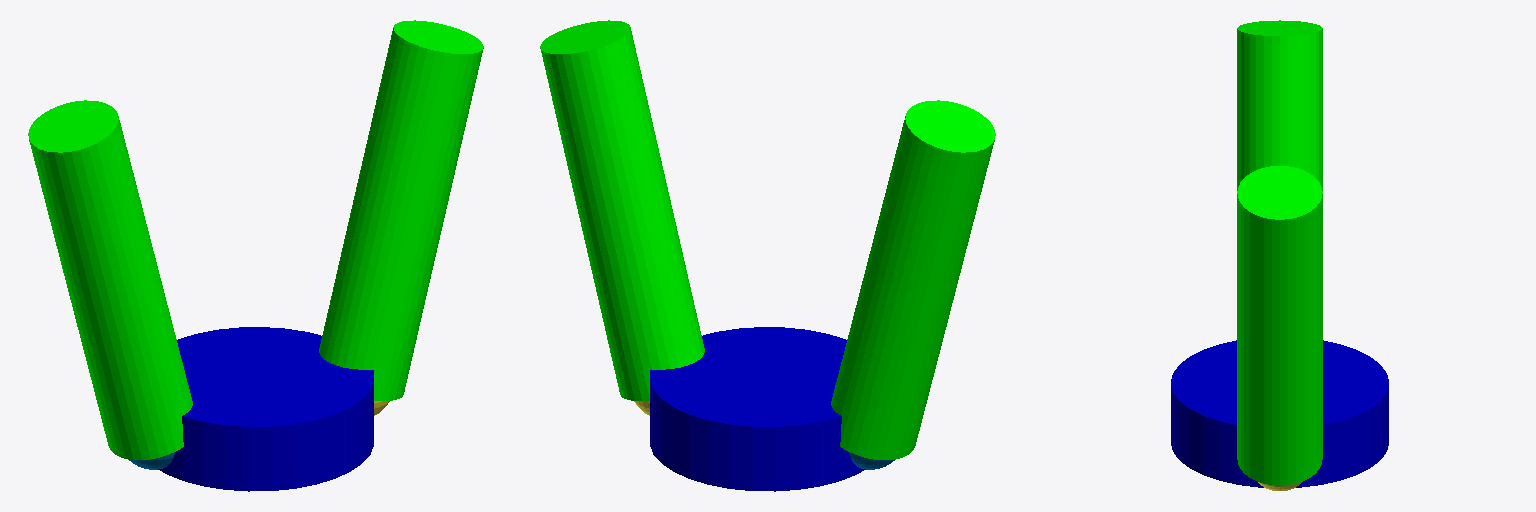
The robot description file, URDF, robot "gripper_2f_1j":
<?xml version='1.0' encoding='UTF-8'?>
<robot name="gripper_2f_1j">
  <link name="palm">
    <inertial>
      <origin xyz="0.0 0.0 0.0" rpy="0.0 -0.0 0.0"/>
      <mass value="1.0"/>
      <inertia ixx="1.0" ixy="0.0" ixz="0.0" iyy="1.0" iyz="0.0" izz="1.0"/>
    </inertial>
    <visual>
      <geometry>
        <cylinder radius="0.05" length="0.03"/>
      </geometry>
      <material name="blue"/>
      <origin xyz="0.0 0.0 0.0" rpy="0.0 -0.0 0.0"/>
    </visual>
    <collision>
      <geometry>
        <cylinder radius="0.05" length="0.03"/>
      </geometry>
      <origin xyz="0.0 0.0 0.0" rpy="0.0 0.0 0.0"/>
    </collision>
  </link>
  <link name="f11">
    <inertial>
      <origin xyz="0.0 0.0 0.0" rpy="0.0 -0.0 0.0"/>
      <mass value="1.0"/>
      <inertia ixx="1.0" ixy="0.0" ixz="0.0" iyy="1.0" iyz="0.0" izz="1.0"/>
    </inertial>
    <visual>
      <geometry>
        <cylinder radius="0.019533973181831442" length="0.15718816124457272"/>
      </geometry>
      <material name="green"/>
      <origin xyz="0.0 0.0 0.07859408062228636" rpy="0.0 -0.0 0.0"/>
    </visual>
    <collision>
      <geometry>
        <cylinder radius="0.019533973181831442" length="0.15718816124457272"/>
      </geometry>
      <origin xyz="0.0 0.0 0.05" rpy="0.0 0.0 0.0"/>
    </collision>
  </link>
  <link name="f21">
    <inertial>
      <origin xyz="0.0 0.0 0.0" rpy="0.0 -0.0 0.0"/>
      <mass value="1.0"/>
      <inertia ixx="1.0" ixy="0.0" ixz="0.0" iyy="1.0" iyz="0.0" izz="1.0"/>
    </inertial>
    <visual>
      <geometry>
        <cylinder radius="0.019533973181831442" length="0.15718816124457272"/>
      </geometry>
      <material name="green"/>
      <origin xyz="0.0 0.0 0.07859408062228636" rpy="0.0 -0.0 0.0"/>
    </visual>
    <collision>
      <geometry>
        <cylinder radius="0.019533973181831442" length="0.15718816124457272"/>
      </geometry>
      <origin xyz="0.0 0.0 0.05" rpy="0.0 0.0 0.0"/>
    </collision>
  </link>
  <link name="f11_base">
    <inertial>
      <origin xyz="0.0 0.0 0.0" rpy="0.0 -0.0 0.0"/>
      <mass value="1.0"/>
      <inertia ixx="1.0" ixy="0.0" ixz="0.0" iyy="1.0" iyz="0.0" izz="1.0"/>
    </inertial>
    <visual>
      <geometry>
        <sphere radius="0.015"/>
      </geometry>
      <origin xyz="0.0 0.0 0.0" rpy="0.0 -0.0 0.0"/>
    </visual>
  </link>
  <link name="f21_base">
    <inertial>
      <origin xyz="0.0 0.0 0.0" rpy="0.0 -0.0 0.0"/>
      <mass value="1.0"/>
      <inertia ixx="1.0" ixy="0.0" ixz="0.0" iyy="1.0" iyz="0.0" izz="1.0"/>
    </inertial>
    <visual>
      <geometry>
        <sphere radius="0.015"/>
      </geometry>
      <origin xyz="0.0 0.0 0.0" rpy="0.0 -0.0 0.0"/>
    </visual>
  </link>
  <joint name="f11_joint" type="revolute">
    <dynamics damping="100.0" friction="1.0"/>
    <limit effort="30.0" velocity="2.0" lower="-0.6" upper="0.25"/>
    <parent link="f11_base"/>
    <child link="f11"/>
    <axis xyz="0. 1. 0."/>
    <origin xyz="0.0 0.0 0.0" rpy="0.0 0.25 0.0"/>
  </joint>
  <joint name="f21_joint" type="revolute">
    <dynamics damping="100.0" friction="1.0"/>
    <limit effort="30.0" velocity="2.0" lower="-0.6" upper="0.25"/>
    <parent link="f21_base"/>
    <child link="f21"/>
    <axis xyz=" 0. -1.  0."/>
    <origin xyz="0.0 0.0 0.0" rpy="0.0 -0.25 0.0"/>
  </joint>
  <joint name="f11_base_joint" type="fixed">
    <parent link="palm"/>
    <child link="f11_base"/>
    <axis xyz="1. 0. 0."/>
    <origin xyz="0.05 0.0 0.0" rpy="0.0 0.0 0.0"/>
  </joint>
  <joint name="f21_base_joint" type="fixed">
    <parent link="palm"/>
    <child link="f21_base"/>
    <axis xyz="1. 0. 0."/>
    <origin xyz="-0.05 -0.0 0.0" rpy="0.0 0.0 0.0"/>
  </joint>
  <material name="blue">
    <color rgba="0.  0.  0.8 1. "/>
  </material>
  <material name="green">
    <color rgba="0. 1. 0. 1."/>
  </material>
</robot>

--- Facts derived from the render (not from the file) ---
The picture shows the robot from 3 angles, left to right: view 1: azimuth 30°, elevation 25°; view 2: azimuth 150°, elevation 25°; view 3: azimuth 270°, elevation 25°; orthographic projection.
Model gripper_2f_1j with 5 links and 4 joints (2 revolute, 2 fixed), rooted at palm, posed every joint at zero.
Links seen in each view (by area): view 1: f11, f21, palm; view 2: f11, f21, palm; view 3: f11, palm, f21.
Boxes of the visible links, bbox=[...] form: f11: bbox=[319, 20, 483, 400]; f21: bbox=[28, 100, 192, 459]; palm: bbox=[158, 327, 373, 491]; f11: bbox=[540, 20, 704, 400]; f21: bbox=[831, 100, 995, 459]; palm: bbox=[650, 327, 865, 491]; f11: bbox=[1237, 166, 1322, 485]; palm: bbox=[1171, 340, 1388, 487]; f21: bbox=[1237, 20, 1322, 190].
Size in the robot's own frame: 0.2156 by 0.1 by 0.1721 metres.
Geometry: primitives only (box / cylinder / sphere), no mesh files.